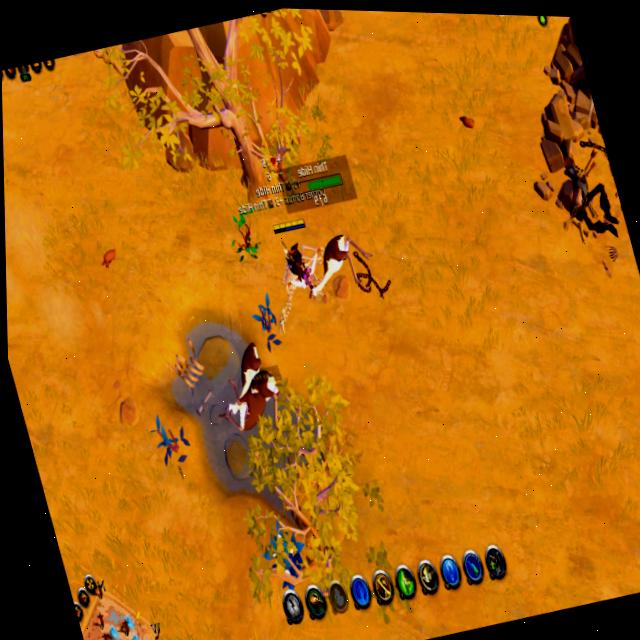mob: (212, 334, 294, 437), (297, 222, 377, 300)
red: (270, 213, 320, 288)
